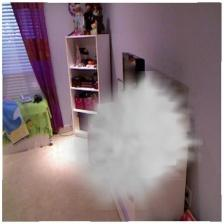fire: (62, 71, 203, 210)
